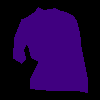maglione: (12, 6, 88, 92)
